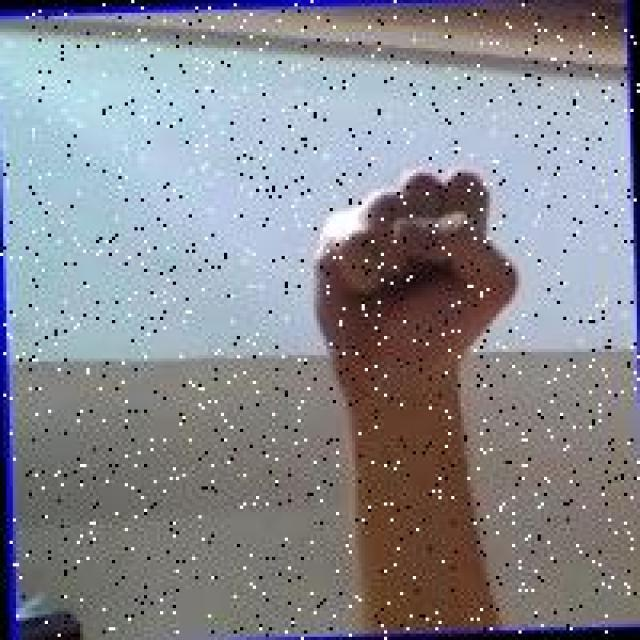S: (298, 156, 528, 410)
